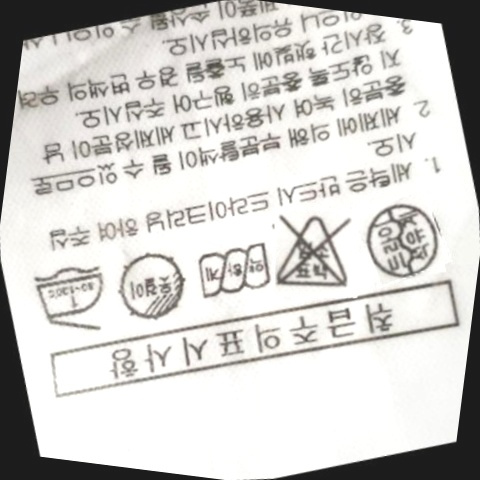dry_clean_petrol_only: (356, 187, 452, 292)
iron_low: (26, 251, 123, 343)
line_dry_in_shade: (105, 235, 206, 337)
non_chlorine_bleach: (268, 203, 366, 301)
wring: (189, 227, 283, 314)
